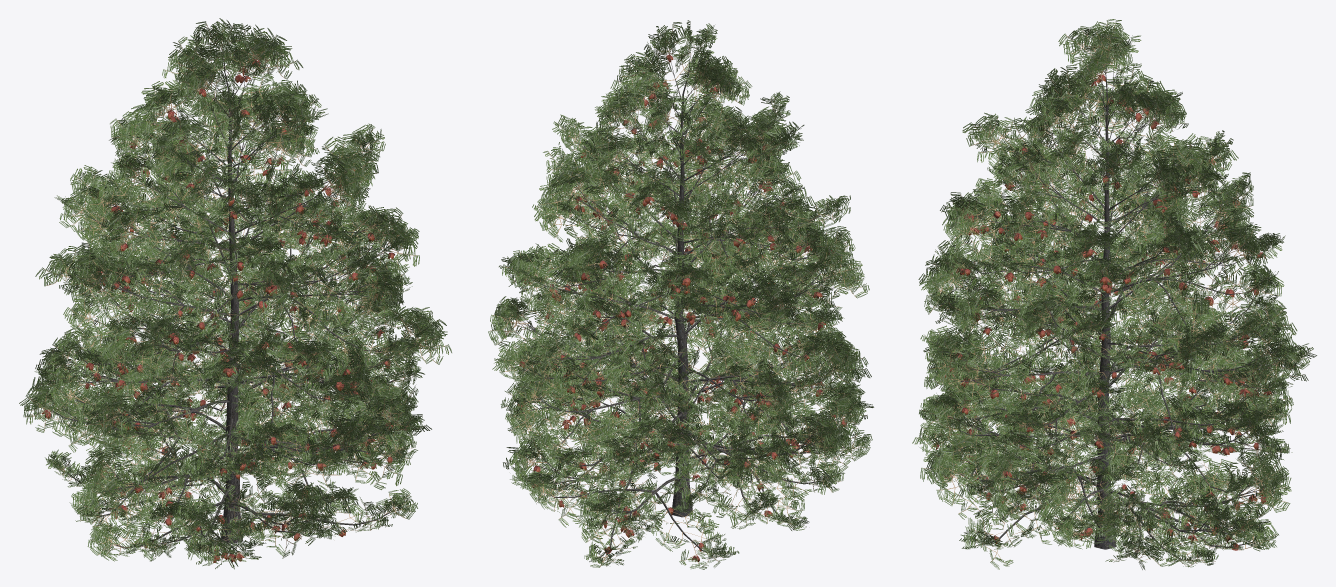
Rendered from Abies concolor001_LOW.FBX.
The picture shows the model from 3 angles, left to right: view 1: azimuth 30°, elevation 25°; view 2: azimuth 150°, elevation 25°; view 3: azimuth 270°, elevation 25°; orthographic projection. The views are drawn at different scales.
Parts seen in each view (by area): view 1: Abies concolor001_LOW; view 2: Abies concolor001_LOW; view 3: Abies concolor001_LOW.
Part boxes in pixels (<box>): Abies concolor001_LOW: <box>19,18,451,569</box>; Abies concolor001_LOW: <box>488,20,873,569</box>; Abies concolor001_LOW: <box>912,19,1316,569</box>.
Size of the model in its own units: 3865 by 5385 by 3831.
